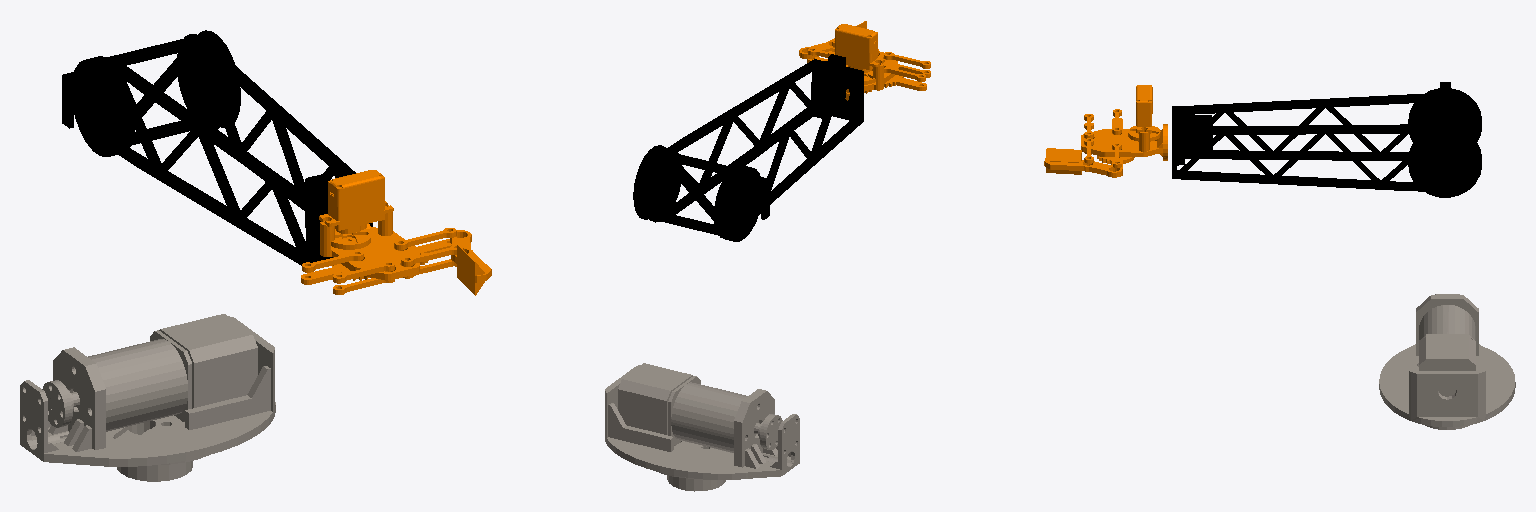
robot.urdf — manipulator_assembly_to_URDF_v2:
<?xml version="1.0" encoding="utf-8"?>
<!-- This URDF was automatically created by SolidWorks to URDF Exporter! Originally created by [author] ([email redacted]) 
     Commit Version: 1.6.0-4-g7f85cfe  Build Version: 1.6.7995.38578
     For more information, please see http://wiki.ros.org/sw_urdf_exporter -->
<robot
  name="manipulator_assembly_to_URDF_v2">
  <link
    name="base_link">
    <inertial>
      <origin
        xyz="0.0789173614759228 0.0365054375538782 0.000146943372671578"
        rpy="0 0 0" />
      <mass
        value="0.803055334573091" />
      <inertia
        ixx="0.00058252083724049"
        ixy="5.91238997535074E-06"
        ixz="2.22761804402797E-06"
        iyy="0.0012074631537419"
        iyz="3.76810492624628E-07"
        izz="0.00158848602901175" />
    </inertial>
    <visual>
      <origin
        xyz="0 0 0"
        rpy="0 0 0" />
      <geometry>
        <mesh
          filename="package://manipulator_description/meshes/base_link.STL" />
      </geometry>
      <material
        name="">
        <color
          rgba="1 0.549019607843137 0 1" />
      </material>
    </visual>
    <collision>
      <origin
        xyz="0 0 0"
        rpy="0 0 0" />
      <geometry>
        <mesh
          filename="package://manipulator_description/meshes/base_link.STL" />
      </geometry>
    </collision>
  </link>
  <link
    name="link_1">
    <inertial>
      <origin
        xyz="0.00584957744329572 4.50291616769585E-05 0.0298263419760327"
        rpy="0 0 0" />
      <mass
        value="1.29634781607792" />
      <inertia
        ixx="0.000364644624121157"
        ixy="6.10818275959069E-07"
        ixz="5.44707780658458E-06"
        iyy="0.00057710623926429"
        iyz="4.46425764716742E-07"
        izz="0.000606404758522164" />
    </inertial>
    <visual>
      <origin
        xyz="0 0 0"
        rpy="0 0 0" />
      <geometry>
        <mesh
          filename="package://manipulator_description/meshes/link_1.STL" />
      </geometry>
      <material
        name="">
        <color
          rgba="0.647058823529412 0.619607843137255 0.588235294117647 1" />
      </material>
    </visual>
    <collision>
      <origin
        xyz="0 0 0"
        rpy="0 0 0" />
      <geometry>
        <mesh
          filename="package://manipulator_description/meshes/link_1.STL" />
      </geometry>
    </collision>
  </link>
  <joint
    name="joint_1"
    type="continuous">
    <origin
      xyz="0 0 0"
      rpy="0 0 0" />
    <parent
      link="base_link" />
    <child
      link="link_1" />
    <axis
      xyz="0 0 1" />
  </joint>
  <link
    name="link_2">
    <inertial>
      <origin
        xyz="0.0624692345713514 -0.000212499756336727 -0.00438389058830384"
        rpy="0 0 0" />
      <mass
        value="0.656682402619019" />
      <inertia
        ixx="0.000302558003494536"
        ixy="-4.52379082874761E-08"
        ixz="4.70265576996236E-05"
        iyy="0.000505085462003595"
        iyz="-5.3371760088461E-08"
        izz="0.000395081060861996" />
    </inertial>
    <visual>
      <origin
        xyz="0 0 0"
        rpy="0 0 0" />
      <geometry>
        <mesh
          filename="package://manipulator_description/meshes/link_2.STL" />
      </geometry>
      <material
        name="">
        <color
          rgba="0 0 0 1" />
      </material>
    </visual>
    <collision>
      <origin
        xyz="0 0 0"
        rpy="0 0 0" />
      <geometry>
        <mesh
          filename="package://manipulator_description/meshes/link_2.STL" />
      </geometry>
    </collision>
  </link>
  <joint
    name="joint_2"
    type="continuous">
    <origin
      xyz="-0.00025 -0.0015763 0.030821"
      rpy="-3.1416 -1.5702 0" />
    <parent
      link="link_1" />
    <child
      link="link_2" />
    <axis
      xyz="0 0 1" />
  </joint>
  <link
    name="link_3">
    <inertial>
      <origin
        xyz="0.0595640388374039 -0.000801493795255848 -0.00158564852414744"
        rpy="0 0 0" />
      <mass
        value="0.090555203298826" />
      <inertia
        ixx="8.42452666533343E-05"
        ixy="8.38734067730732E-07"
        ixz="-6.30767901595749E-06"
        iyy="0.000435612309074478"
        iyz="-6.7312341062182E-07"
        izz="0.000393286765843842" />
    </inertial>
    <visual>
      <origin
        xyz="0 0 0"
        rpy="0 0 0" />
      <geometry>
        <mesh
          filename="package://manipulator_description/meshes/link_3.STL" />
      </geometry>
      <material
        name="">
        <color
          rgba="0 0 0 1" />
      </material>
    </visual>
    <collision>
      <origin
        xyz="0 0 0"
        rpy="0 0 0" />
      <geometry>
        <mesh
          filename="package://manipulator_description/meshes/link_3.STL" />
      </geometry>
    </collision>
  </link>
  <joint
    name="joint_3"
    type="continuous">
    <origin
      xyz="0.17296 0 0.00014863"
      rpy="0.00058608 0 1.5708" />
    <parent
      link="link_2" />
    <child
      link="link_3" />
    <axis
      xyz="0 0 1" />
  </joint>
  <link
    name="gripper">
    <inertial>
      <origin
        xyz="-0.000963725610493814 0.00867649640617191 0.0259025975632264"
        rpy="0 0 0" />
      <mass
        value="0.0296543051300522" />
      <inertia
        ixx="4.7474489759306E-06"
        ixy="-3.61101084319972E-09"
        ixz="9.76002957092922E-10"
        iyy="7.05174610923127E-06"
        iyz="8.72386839008527E-08"
        izz="4.14902836862368E-06" />
    </inertial>
    <visual>
      <origin
        xyz="0 0 0"
        rpy="0 0 0" />
      <geometry>
        <mesh
          filename="package://manipulator_description/meshes/gripper.STL" />
      </geometry>
      <material
        name="">
        <color
          rgba="1 0.549019607843137 0 1" />
      </material>
    </visual>
    <collision>
      <origin
        xyz="0 0 0"
        rpy="0 0 0" />
      <geometry>
        <mesh
          filename="package://manipulator_description/meshes/gripper.STL" />
      </geometry>
    </collision>
  </link>
  <joint
    name="joint_4"
    type="continuous">
    <origin
      xyz="0.2032 0 0"
      rpy="3.14 -1.5708 0" />
    <parent
      link="link_3" />
    <child
      link="gripper" />
    <axis
      xyz="0 0 1" />
  </joint>
  <link
    name="left_finger">
    <inertial>
      <origin
        xyz="0 -0.00168229070355719 -0.00889168009611271"
        rpy="0 0 0" />
      <mass
        value="0.00362258079755188" />
      <inertia
        ixx="8.58500861755857E-07"
        ixy="-4.30692005937536E-22"
        ixz="-5.84151267204439E-22"
        iyy="6.03746320698698E-07"
        iyz="-3.66667120365105E-07"
        izz="3.41098994017298E-07" />
    </inertial>
    <visual>
      <origin
        xyz="0 0 0"
        rpy="0 0 0" />
      <geometry>
        <mesh
          filename="package://manipulator_description/meshes/left_finger.STL" />
      </geometry>
      <material
        name="">
        <color
          rgba="1 0.549019607843137 0 1" />
      </material>
    </visual>
    <collision>
      <origin
        xyz="0 0 0"
        rpy="0 0 0" />
      <geometry>
        <mesh
          filename="package://manipulator_description/meshes/left_finger.STL" />
      </geometry>
    </collision>
  </link>
  <joint
    name="lf_joint"
    type="prismatic">
    <origin
      xyz="0.032331 0 0.076026"
      rpy="0.78114 0 -1.5708" />
    <parent
      link="gripper" />
    <child
      link="left_finger" />
    <axis
      xyz="0 0 1" />
    <limit
      lower="0"
      upper="0.055"
      effort="1000"
      velocity="1" />
  </joint>
  <link
    name="right_finger">
    <inertial>
      <origin
        xyz="0 0.00159783947927411 -0.00890724345358063"
        rpy="0 0 0" />
      <mass
        value="0.00362258079755187" />
      <inertia
        ixx="8.58500861755855E-07"
        ixy="-1.88135082166572E-23"
        ixz="6.61061167921008E-23"
        iyy="6.10681157654909E-07"
        iyz="3.64108869441144E-07"
        izz="3.34164157061085E-07" />
    </inertial>
    <visual>
      <origin
        xyz="0 0 0"
        rpy="0 0 0" />
      <geometry>
        <mesh
          filename="package://manipulator_description/meshes/right_finger.STL" />
      </geometry>
      <material
        name="">
        <color
          rgba="1 0.549019607843137 0 1" />
      </material>
    </visual>
    <collision>
      <origin
        xyz="0 0 0"
        rpy="0 0 0" />
      <geometry>
        <mesh
          filename="package://manipulator_description/meshes/right_finger.STL" />
      </geometry>
    </collision>
  </link>
  <joint
    name="rf_joint"
    type="prismatic">
    <origin
      xyz="-0.030888 0 0.075969"
      rpy="-0.78257 0 -1.5708" />
    <parent
      link="gripper" />
    <child
      link="right_finger" />
    <axis
      xyz="0 0 1" />
    <limit
      lower="0"
      upper="0.055"
      effort="1000"
      velocity="1" />
  </joint>
</robot>

--- Render facts (derived) ---
The picture shows the robot from 3 angles, left to right: view 1: azimuth 30°, elevation 25°; view 2: azimuth 150°, elevation 25°; view 3: azimuth 270°, elevation 25°; orthographic projection.
Model manipulator_assembly_to_URDF_v2 with 7 links and 6 joints (4 continuous, 2 prismatic), rooted at base_link, posed every joint at zero.
Links seen in each view (by area): view 1: link_1, link_3, gripper, left_finger; view 2: link_1, link_3, gripper; view 3: link_3, link_1, gripper, left_finger.
Boxes of the visible links, x1,y1,x2,y2 form: link_1: (20,314,275,481); link_3: (62,30,372,265); gripper: (301,170,463,294); left_finger: (450,230,491,295); link_1: (605,363,799,491); link_3: (633,54,863,241); gripper: (807,24,930,100); link_3: (1172,82,1481,197); link_1: (1379,294,1515,429); gripper: (1081,85,1167,176); left_finger: (1044,148,1122,177).
Bounding box of the posed robot: 0.1465 × 0.3456 × 0.2623 m (x, y, z).
Meshes: 7 distinct files referenced, 4 mesh visuals loaded (4 binary STL); not drawn: 3 (reference not matched to a file when rendering).